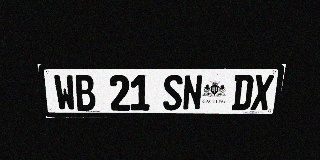1: (130, 75, 150, 110)
2: (109, 75, 130, 111)
B: (73, 75, 96, 111)
D: (231, 75, 254, 110)
N: (182, 75, 203, 110)
S: (163, 75, 183, 110)
W: (53, 75, 77, 111)
X: (250, 75, 274, 110)
